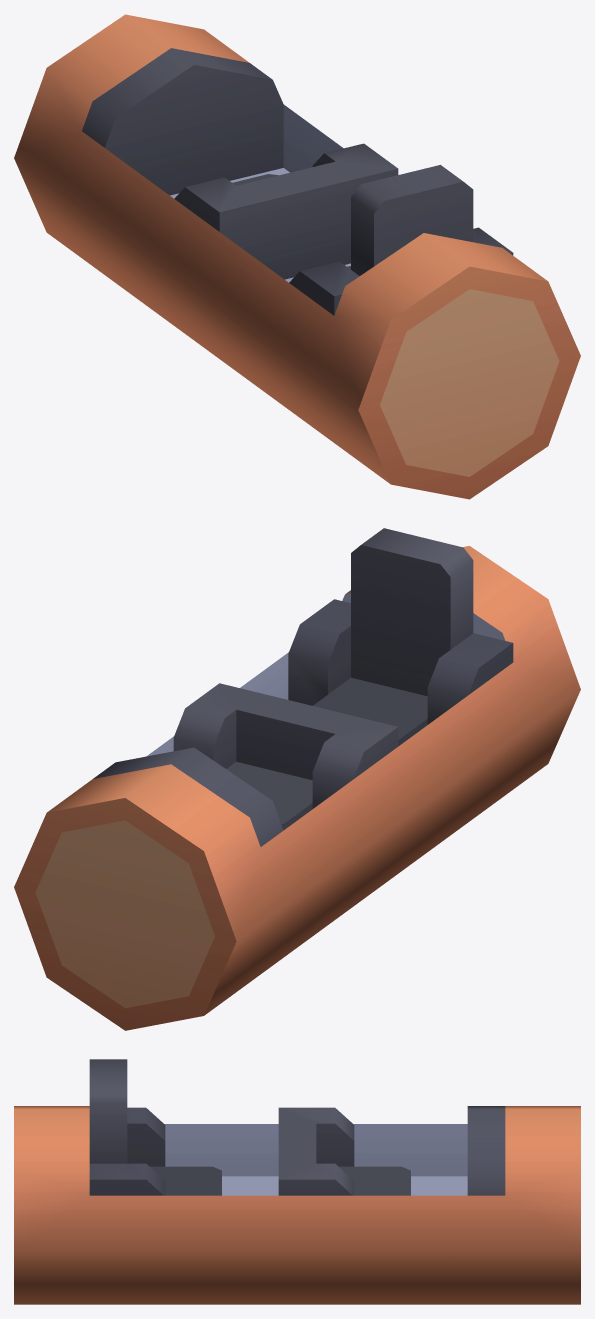
File: train-log-flume.glb
The picture shows the model from 3 angles, top to bottom: view 1: azimuth 30°, elevation 25°; view 2: azimuth 150°, elevation 25°; view 3: azimuth 270°, elevation 25°; orthographic projection. The views are drawn at different scales.
Visible parts, largest first — view 1: train-log-flume; view 2: train-log-flume; view 3: train-log-flume.
Part boxes in pixels (box(x1,y1,x2,y2)): train-log-flume: box(14, 14, 580, 499); train-log-flume: box(14, 528, 580, 1030); train-log-flume: box(14, 1059, 580, 1304).
Bounding box in the file's own units: 0.56 × 0.66 × 1.5.
1 material, 1 textured.
